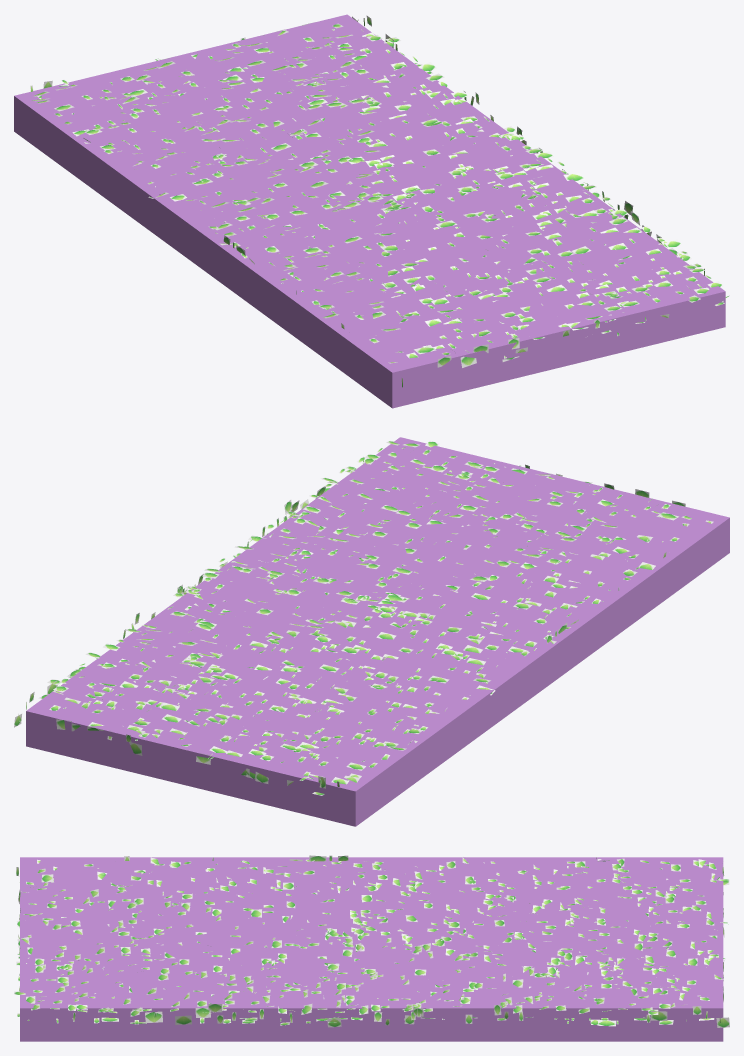
Rendered from MazeCell.fbx.
The picture shows the model from 3 angles, top to bottom: view 1: azimuth 30°, elevation 25°; view 2: azimuth 150°, elevation 25°; view 3: azimuth 270°, elevation 25°; orthographic projection. The views are drawn at different scales.
Visible parts, largest first — view 1: CellLeaf001; view 2: CellLeaf001; view 3: CellLeaf001.
Part boxes in pixels (x1,y1,x2,y2): CellLeaf001: [14, 14, 729, 408]; CellLeaf001: [14, 437, 729, 826]; CellLeaf001: [14, 855, 729, 1041].
Bounding box in the file's own units: 349 × 42.59 × 663.
